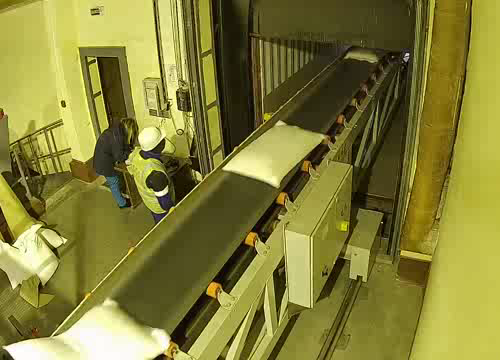bag: (0, 297, 196, 360), (220, 117, 328, 192), (343, 45, 387, 68)
